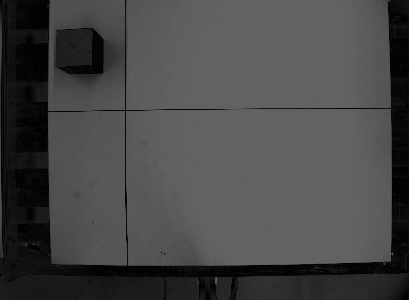b7: (51, 25, 106, 75)
